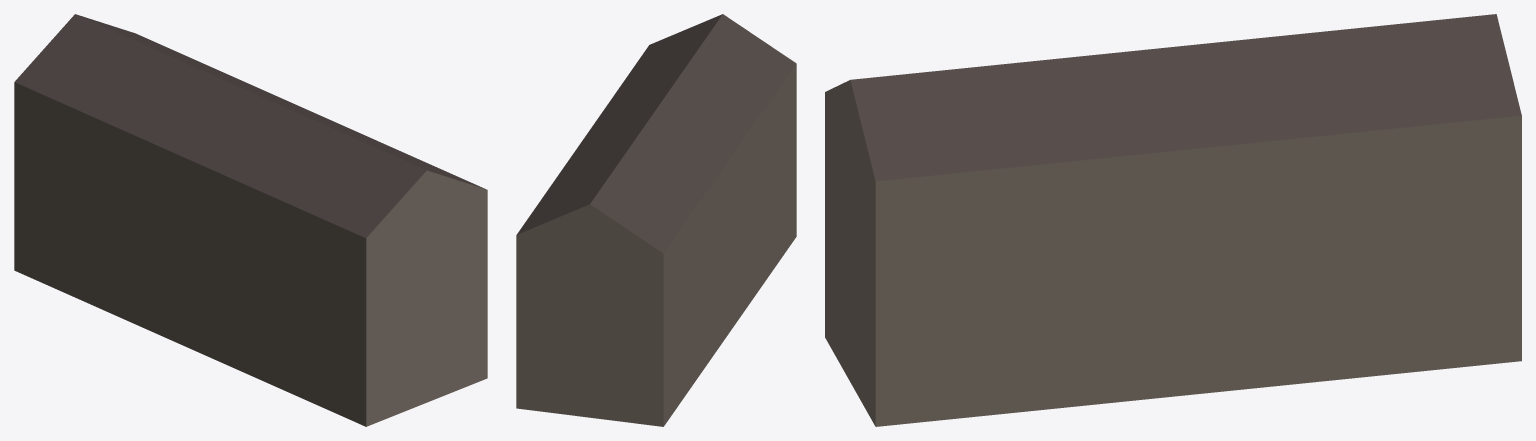
3 views of the same model, side by side, from view 1: azimuth 30°, elevation 25°; view 2: azimuth 150°, elevation 25°; view 3: azimuth 270°, elevation 25° (orthographic). The views are drawn at different scales.
Visible parts, largest first — view 1: HP-w783664791; view 2: HP-w783664791; view 3: HP-w783664791.
Part boxes in pixels (x1,y1,x2,y2): HP-w783664791: (14,14,487,426); HP-w783664791: (516,14,796,426); HP-w783664791: (825,14,1521,426).
Bounding box in the file's own units: 8.14 × 7.39 × 15.43.
